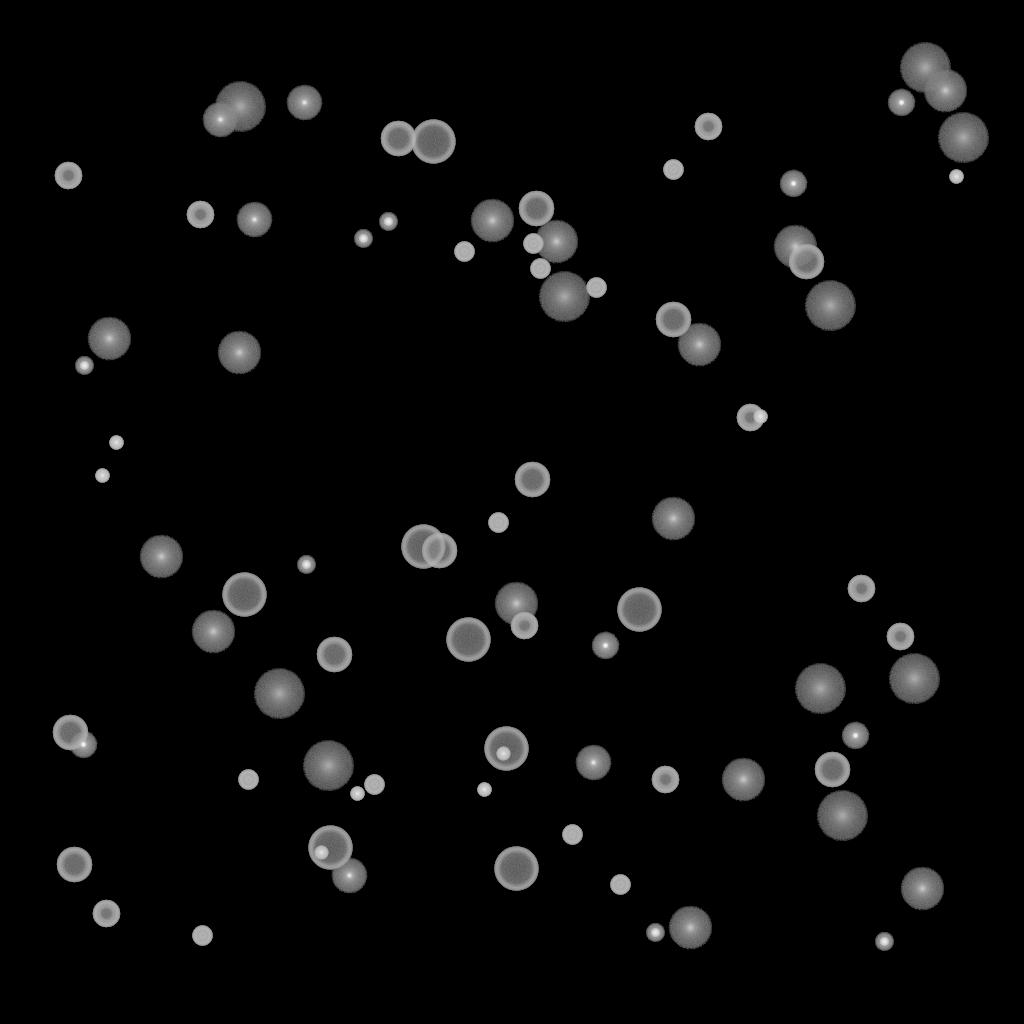depth:-10: (69, 731, 97, 759), (591, 632, 619, 660), (841, 722, 869, 750), (779, 170, 807, 198), (887, 89, 915, 117)
depth:-20: (646, 924, 664, 942), (75, 357, 93, 375), (875, 933, 893, 951), (354, 230, 372, 248), (297, 556, 315, 574), (379, 213, 397, 231)
depth:-30: (753, 410, 767, 424), (496, 747, 510, 761), (477, 783, 491, 797), (350, 787, 364, 801), (314, 846, 328, 860), (109, 436, 123, 450), (95, 469, 109, 483), (949, 170, 963, 184)
depth:-40: (610, 875, 630, 895), (238, 770, 258, 790), (454, 242, 474, 262), (586, 278, 606, 298), (364, 775, 384, 795), (523, 234, 543, 254), (488, 513, 508, 533), (663, 160, 683, 180), (192, 926, 212, 946), (530, 259, 550, 279), (562, 825, 582, 845)
depth:-50: (886, 623, 914, 651), (694, 113, 722, 141), (92, 900, 120, 928), (510, 612, 538, 640), (186, 201, 214, 229), (54, 162, 82, 190), (736, 404, 764, 432), (651, 766, 679, 794), (847, 575, 875, 603)
depth:-60: (316, 637, 352, 673), (380, 121, 416, 157), (56, 847, 92, 883), (518, 191, 554, 227), (655, 302, 691, 338), (514, 462, 550, 498), (421, 533, 457, 569), (788, 244, 824, 280), (52, 715, 88, 751), (814, 752, 850, 788)
depth:-70: (494, 847, 538, 891), (446, 618, 490, 662), (484, 727, 528, 771), (222, 573, 266, 617), (401, 525, 445, 569), (308, 826, 352, 870), (617, 588, 661, 632), (411, 120, 455, 164)
depth:0: (202, 102, 238, 138), (575, 745, 611, 781), (286, 85, 322, 121), (331, 858, 367, 894), (236, 202, 272, 238)
depth:10: (534, 220, 578, 264), (773, 225, 817, 269), (191, 610, 235, 654), (721, 758, 765, 802), (677, 323, 721, 367), (651, 497, 695, 541), (668, 906, 712, 950), (217, 331, 261, 375), (494, 582, 538, 626), (470, 199, 514, 243), (923, 69, 967, 113), (900, 867, 944, 911), (139, 535, 183, 579), (87, 317, 131, 361)
depth:20: (937, 113, 989, 163), (794, 664, 846, 714), (816, 791, 868, 841), (538, 272, 590, 322), (899, 43, 951, 93), (214, 82, 266, 132), (302, 741, 354, 791), (253, 669, 305, 719), (888, 654, 940, 704), (804, 281, 856, 331)
